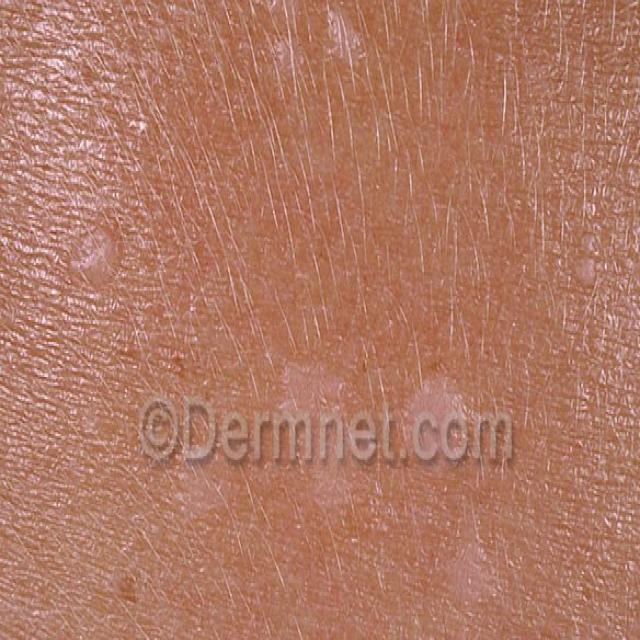Warts: (151, 318, 527, 640), (69, 189, 136, 313)
